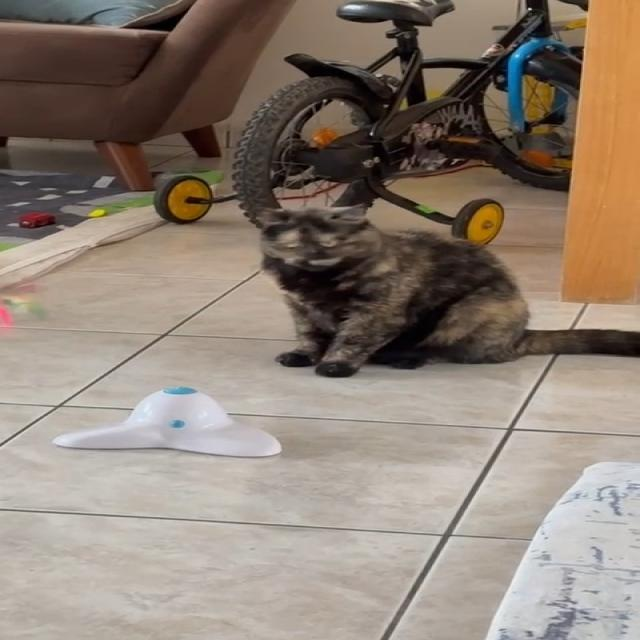authorized: (254, 204, 638, 377)
